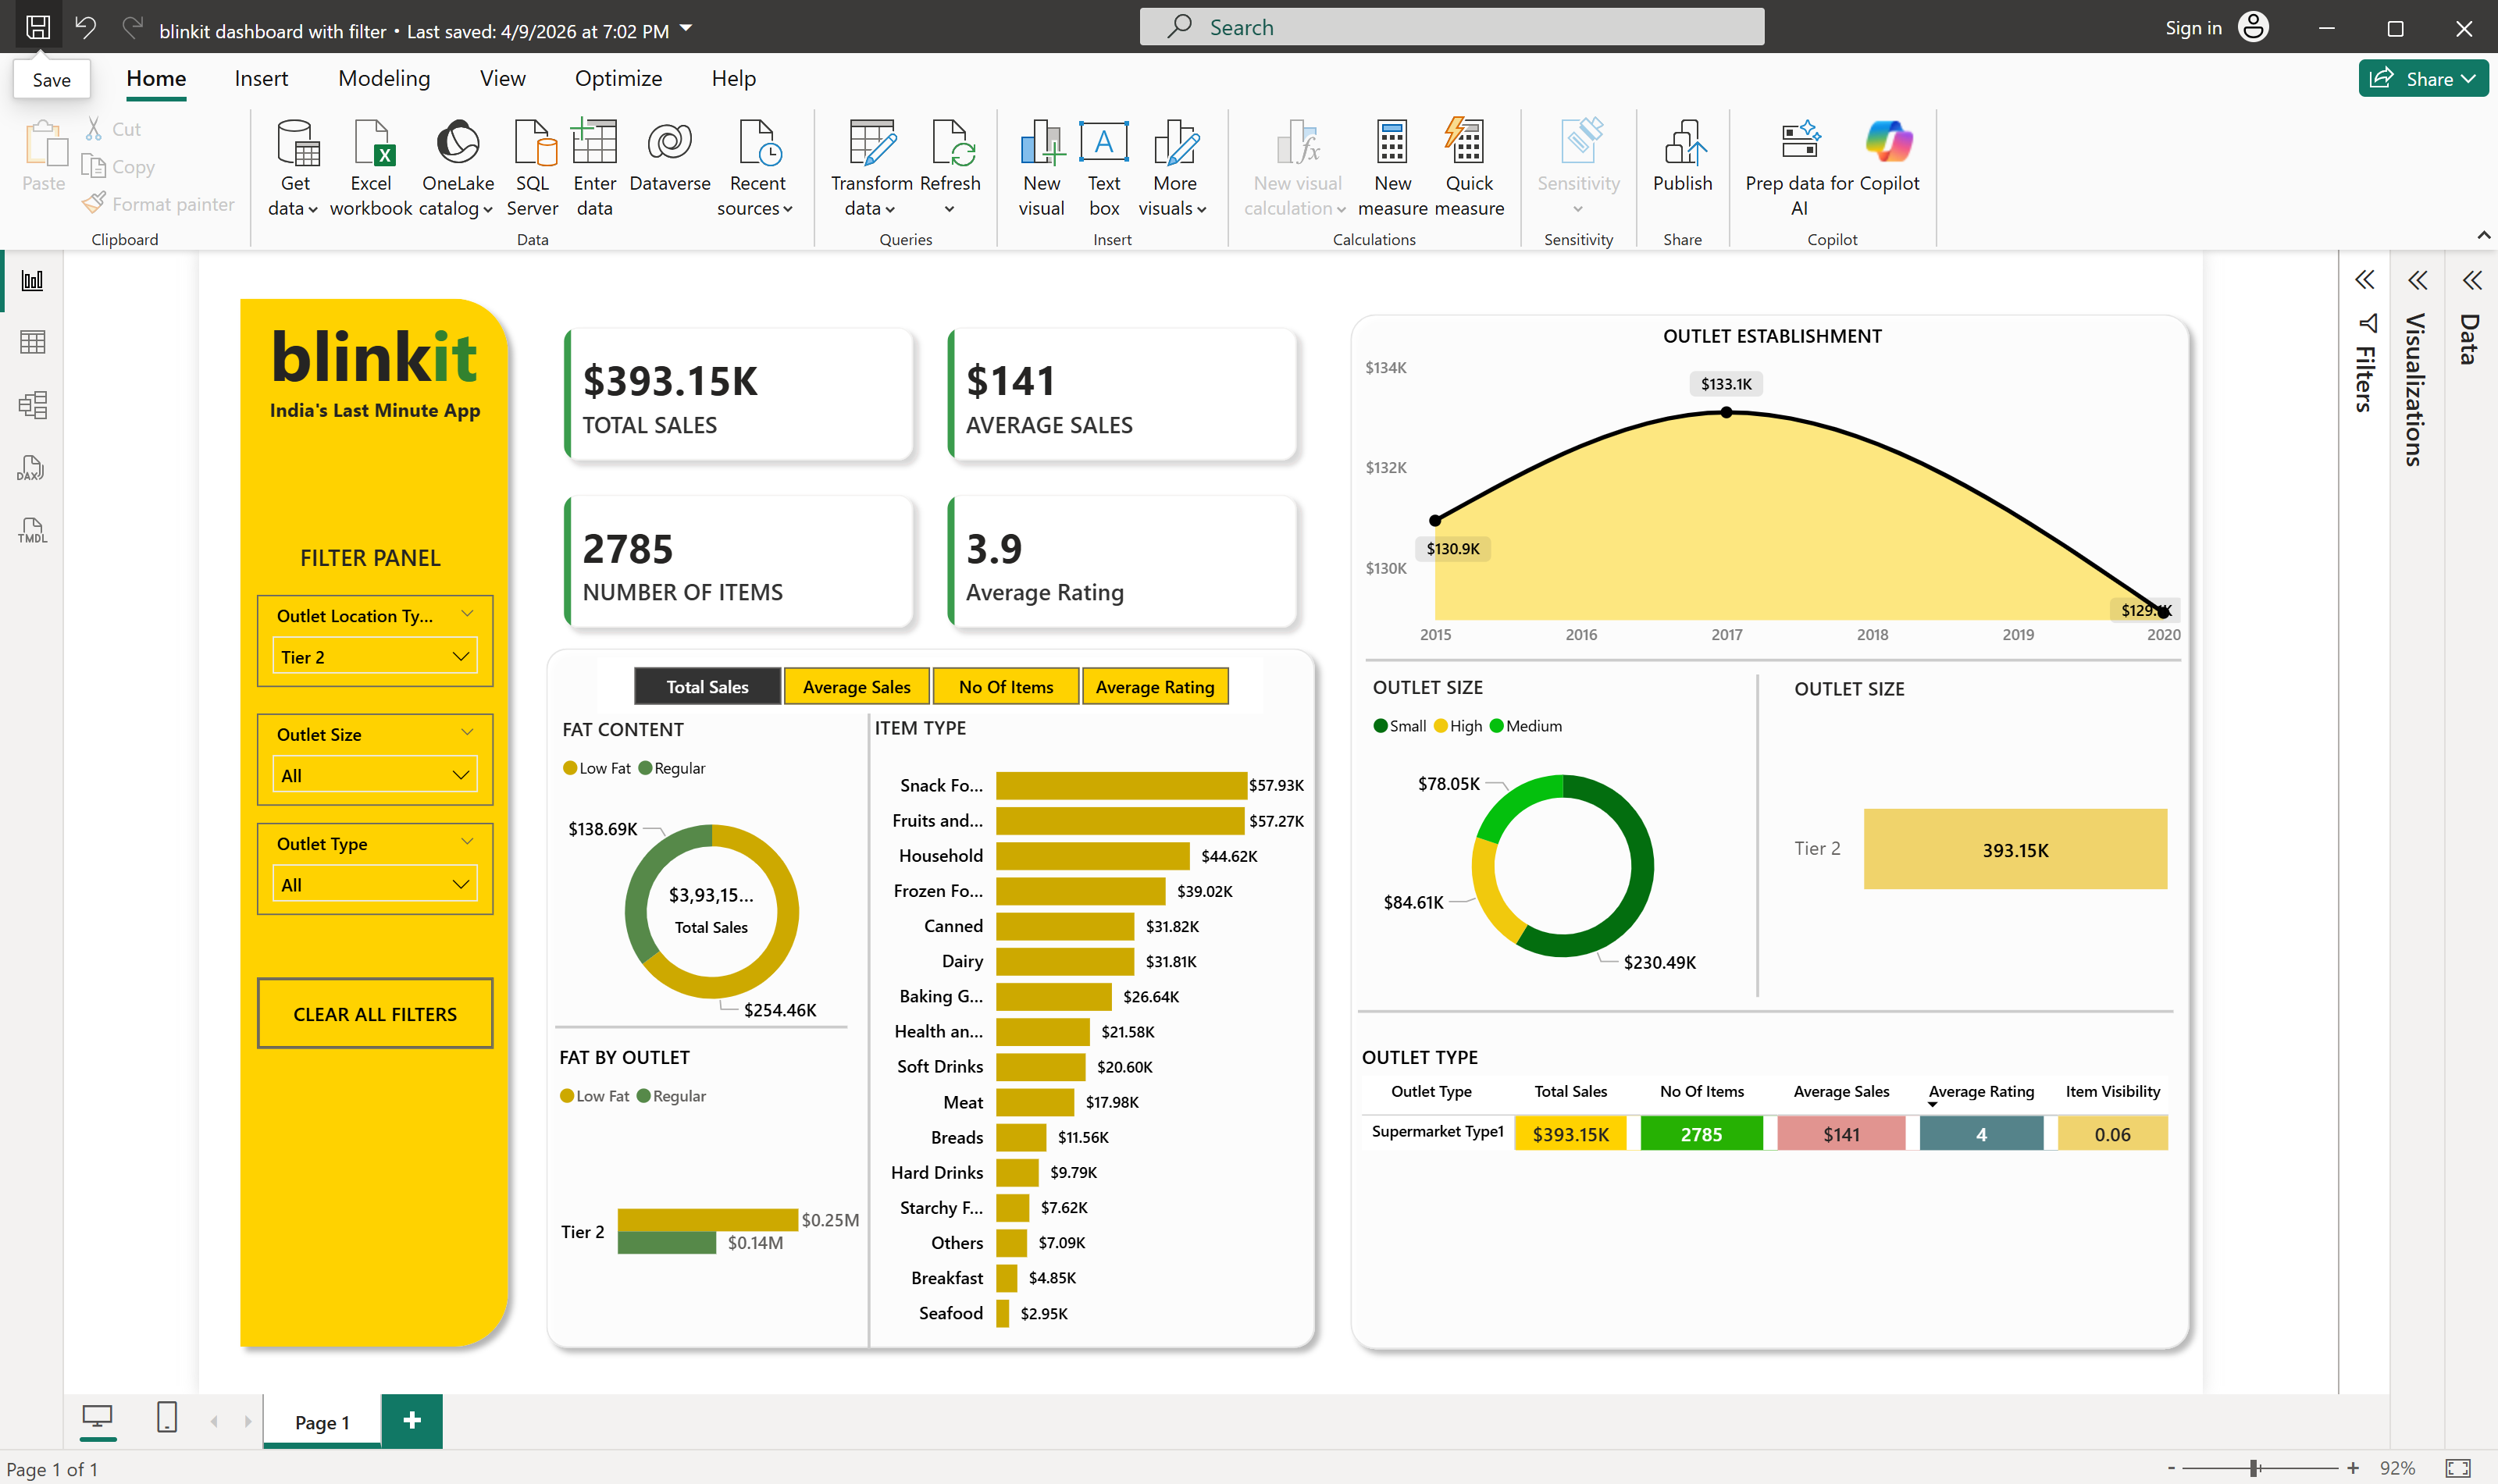

This screenshot's page, from the dashboard's own definition file:
{"tool":"powerbi","page":{"name":"Page 1","canvas":[1400,800],"ordinal":0},"visuals":[{"type":"shape","box":[19.7,25.3,205.2,750.6],"z":0},{"type":"textbox","box":[35.1,35.1,174.3,77.3],"z":1},{"type":"textbox","box":[35.7,97.1,174.3,30],"z":2},{"type":"cardVisual","fields":{"Data":["BlinkIT Grocery Data.Total Sales","BlinkIT Grocery Data.Average Sales","BlinkIT Grocery Data.No Of Items","BlinkIT Grocery Data.Average Rating"]},"box":[226.3,25.3,570.7,269.9],"z":3},{"type":"shape","box":[233.3,269.9,555.2,507],"z":4},{"type":"donutChart","title":"FAT CONTENT","fields":{"Category":["BlinkIT Grocery Data.Item Fat Content"],"Y":["BlinkIT Grocery Data.Total Sales"]},"box":[248.8,324.7,219.3,230.5],"z":5},{"type":"slicer","fields":{"Values":["Matrics.Matrics"]},"box":[278.3,285.3,465.3,39.4],"z":6},{"type":"card","fields":{"Values":["BlinkIT Grocery Data.Total Sales"]},"box":[322.9,430,70,60],"z":8},{"type":"clusteredBarChart","title":"FAT BY OUTLET","fields":{"Category":["BlinkIT Grocery Data.Outlet Location Type"],"Series":["BlinkIT Grocery Data.Item Fat Content"],"Y":["BlinkIT Grocery Data.Total Sales"]},"box":[247.1,554.3,220,212.9],"z":9},{"type":"shape","box":[248.6,532.9,204.3,21.4],"z":10},{"type":"shape","box":[447.1,324.3,41.4,444.3],"z":11},{"type":"barChart","title":"ITEM TYPE","fields":{"Y":["BlinkIT Grocery Data.Total Sales"],"Category":["BlinkIT Grocery Data.Item Type"]},"box":[467.1,324.3,310,444.3],"z":12},{"type":"shape","box":[795.7,35.7,604.3,741.4],"z":13},{"type":"lineChart","title":"OUTLET ESTABLISHMENT","fields":{"Y":["BlinkIT Grocery Data.Total Sales"],"Category":["BlinkIT Grocery Data.Outlet Establishment Year"]},"box":[810,50,580,235.7],"z":14},{"type":"shape","box":[815.7,275.7,570,21.4],"z":15},{"type":"donutChart","title":"OUTLET SIZE","fields":{"Y":["BlinkIT Grocery Data.Total Sales"],"Category":["BlinkIT Grocery Data.Outlet Size"]},"box":[815.7,295.7,275.7,225.7],"z":16},{"type":"funnel","title":"OUTLET SIZE","fields":{"Y":["Sum(BlinkIT Grocery Data.Sales)"],"Category":["BlinkIT Grocery Data.Outlet Location Type"]},"box":[1110,297.1,275.7,225.7],"z":17},{"type":"shape","box":[810,521.4,570,21.4],"z":18},{"type":"slicer","fields":{"Values":["BlinkIT Grocery Data.Outlet Location Type"]},"box":[40,241.4,165.7,64.3],"z":19},{"type":"slicer","fields":{"Values":["BlinkIT Grocery Data.Outlet Size"]},"box":[40,324.3,165.7,64.3],"z":20},{"type":"slicer","fields":{"Values":["BlinkIT Grocery Data.Outlet Type"]},"box":[40,400,165.7,64.3],"z":21},{"type":"textbox","box":[65.7,198.6,112.9,42.9],"z":22},{"type":"pivotTable","title":"OUTLET TYPE","fields":{"Rows":["BlinkIT Grocery Data.Outlet Type"],"Values":["BlinkIT Grocery Data.Total Sales","BlinkIT Grocery Data.No Of Items","BlinkIT Grocery Data.Average Sales","BlinkIT Grocery Data.Average Rating","Avg(BlinkIT Grocery Data.Item Visibility)"]},"box":[807.1,554.3,575.7,222.9],"z":23},{"type":"shape","box":[1068.6,297.1,41.4,225.7],"z":24},{"type":"actionButton","title":"cLEAR","box":[40,508.6,165.7,50],"z":25}]}

Visuals, with their boxes on the page's 1400x800 design canvas (x1, y1, x2, y2). These are canvas units, not pixel positions in the 2498x1484 screenshot, which may show the page scaled, cropped or inside an application window:
shape: pyautogui.locateOnScreen(20, 25, 225, 776)
textbox: pyautogui.locateOnScreen(35, 35, 209, 112)
textbox: pyautogui.locateOnScreen(36, 97, 210, 127)
cardVisual - BlinkIT Grocery Data.Total Sales x BlinkIT Grocery Data.Average Sales: pyautogui.locateOnScreen(226, 25, 797, 295)
shape: pyautogui.locateOnScreen(233, 270, 788, 777)
"FAT CONTENT" donutChart: pyautogui.locateOnScreen(249, 325, 468, 555)
slicer - Matrics.Matrics: pyautogui.locateOnScreen(278, 285, 744, 325)
card - BlinkIT Grocery Data.Total Sales: pyautogui.locateOnScreen(323, 430, 393, 490)
"FAT BY OUTLET" clusteredBarChart: pyautogui.locateOnScreen(247, 554, 467, 767)
shape: pyautogui.locateOnScreen(249, 533, 453, 554)
shape: pyautogui.locateOnScreen(447, 324, 488, 769)
"ITEM TYPE" barChart: pyautogui.locateOnScreen(467, 324, 777, 769)
shape: pyautogui.locateOnScreen(796, 36, 1400, 777)
"OUTLET ESTABLISHMENT" lineChart: pyautogui.locateOnScreen(810, 50, 1390, 286)
shape: pyautogui.locateOnScreen(816, 276, 1386, 297)
"OUTLET SIZE" donutChart: pyautogui.locateOnScreen(816, 296, 1091, 521)
"OUTLET SIZE" funnel: pyautogui.locateOnScreen(1110, 297, 1386, 523)
shape: pyautogui.locateOnScreen(810, 521, 1380, 543)
slicer - BlinkIT Grocery Data.Outlet Location Type: pyautogui.locateOnScreen(40, 241, 206, 306)
slicer - BlinkIT Grocery Data.Outlet Size: pyautogui.locateOnScreen(40, 324, 206, 389)
slicer - BlinkIT Grocery Data.Outlet Type: pyautogui.locateOnScreen(40, 400, 206, 464)
textbox: pyautogui.locateOnScreen(66, 199, 179, 242)
"OUTLET TYPE" pivotTable: pyautogui.locateOnScreen(807, 554, 1383, 777)
shape: pyautogui.locateOnScreen(1069, 297, 1110, 523)
"cLEAR" actionButton: pyautogui.locateOnScreen(40, 509, 206, 559)
